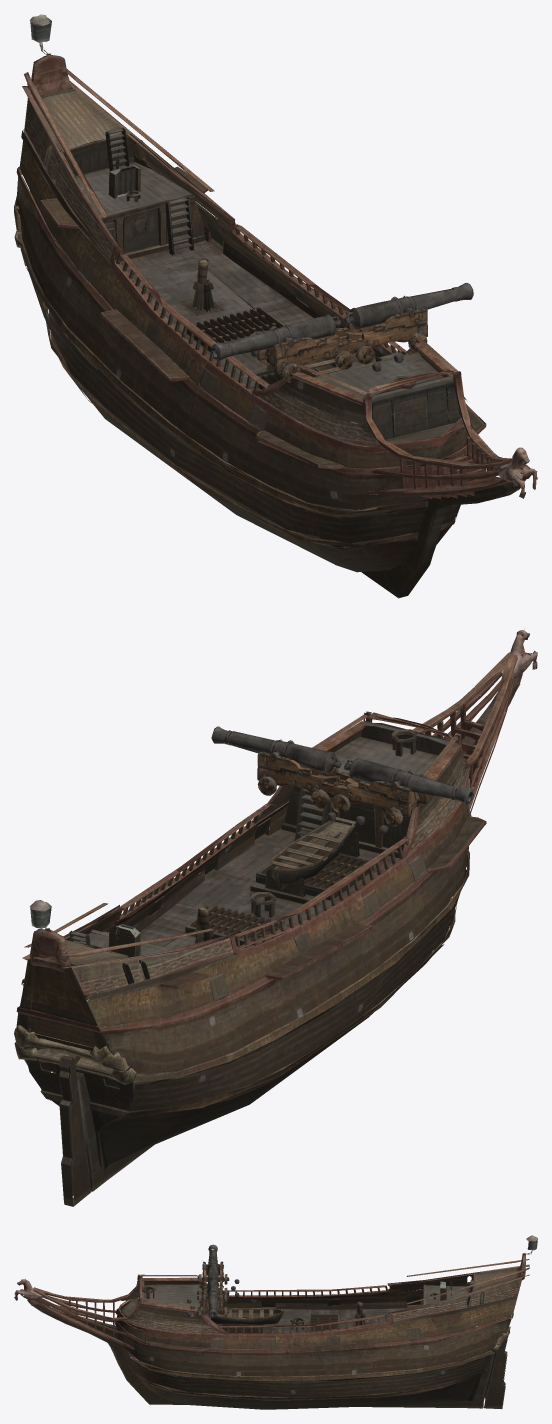
File: ship-gun.glb
The picture shows the model from 3 angles, top to bottom: view 1: azimuth 30°, elevation 25°; view 2: azimuth 150°, elevation 25°; view 3: azimuth 270°, elevation 25°; orthographic projection. The views are drawn at different scales.
Visible parts, largest first — view 1: dutch_ship_medium_hull, cannon_01_ball_01.002, cannon_01_ball_01.001; view 2: dutch_ship_medium_hull, cannon_01_ball_01.001, cannon_01_ball_01.002; view 3: dutch_ship_medium_hull, cannon_01_ball_01.002, cannon_01_ball_01.001.
Boxes of the visible parts, x1,y1,x2,y2 form: dutch_ship_medium_hull: (14, 14, 537, 598); cannon_01_ball_01.002: (334, 283, 473, 371); cannon_01_ball_01.001: (211, 314, 353, 382); dutch_ship_medium_hull: (14, 629, 537, 1206); cannon_01_ball_01.001: (327, 758, 473, 833); cannon_01_ball_01.002: (211, 726, 350, 808); dutch_ship_medium_hull: (14, 1235, 537, 1409); cannon_01_ball_01.002: (187, 1279, 229, 1317); cannon_01_ball_01.001: (197, 1244, 239, 1297).
Size of the model in its own units: 3.93 by 4.79 by 13.18.
Materials: 2 (2 with a texture image).
